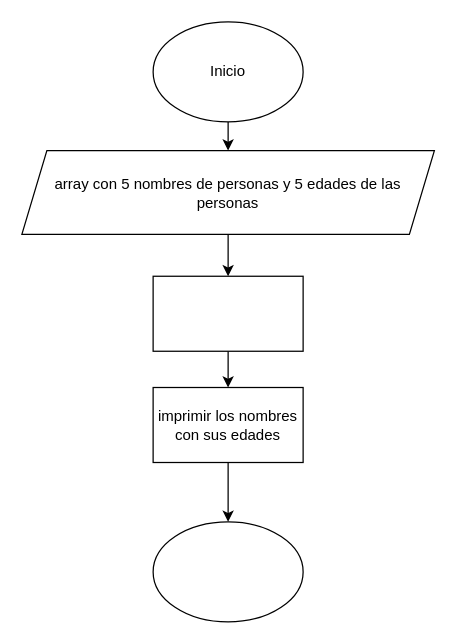
Image size: 456x644. Some labels were removed from this diagram. The centre of each missing label's shape, as x and y in pixels:
"establecer ciclo" belongs at pixel 227 313.
"Fim" belongs at pixel 227 571.
